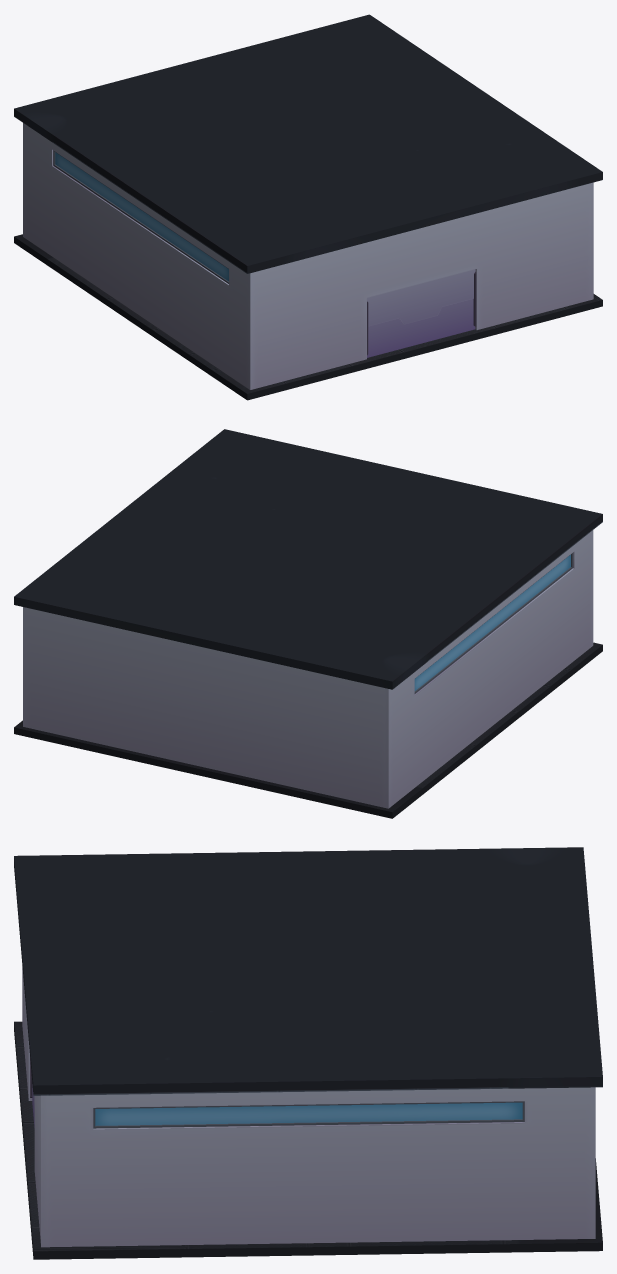
File: interior.fbx
The picture shows the model from 3 angles, top to bottom: view 1: azimuth 30°, elevation 25°; view 2: azimuth 150°, elevation 25°; view 3: azimuth 270°, elevation 25°; orthographic projection. The views are drawn at different scales.
Visible parts, largest first — view 1: PISO_TECHO, PAREDES, PUERTA_SUP, PUERTA_INF; view 2: PISO_TECHO, PAREDES; view 3: PISO_TECHO, PAREDES.
Part boxes in pixels (bbox=[...]): PISO_TECHO: bbox=[14, 14, 602, 400]; PAREDES: bbox=[23, 123, 593, 389]; PUERTA_SUP: bbox=[367, 269, 475, 326]; PUERTA_INF: bbox=[367, 299, 475, 357]; PISO_TECHO: bbox=[14, 429, 602, 818]; PAREDES: bbox=[23, 530, 593, 808]; PISO_TECHO: bbox=[14, 847, 602, 1259]; PAREDES: bbox=[22, 966, 595, 1247].
Size of the model in its own units: 1329 by 453 by 1388.
9 materials, 9 textured.
